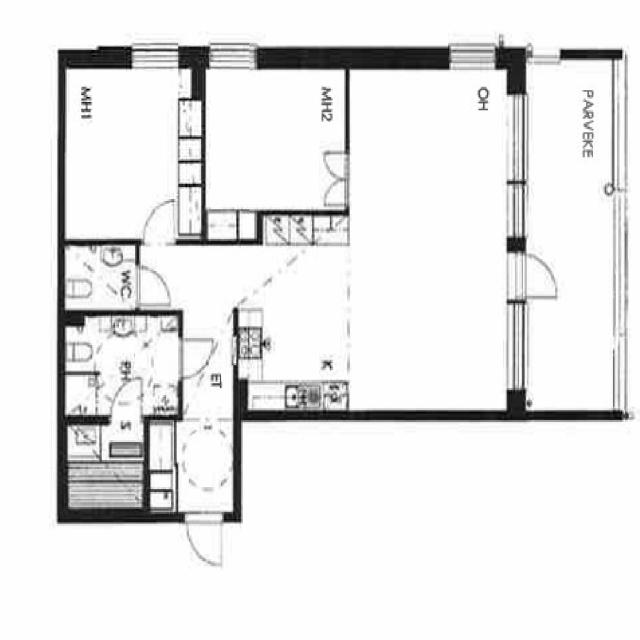door: (508, 253, 560, 297), (187, 514, 222, 567), (178, 339, 213, 378), (111, 377, 141, 420), (144, 202, 173, 245), (136, 268, 170, 304), (324, 178, 349, 206), (324, 152, 349, 178)
